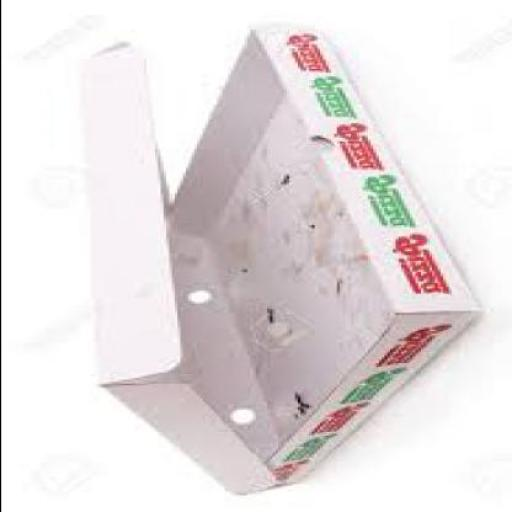cardboard: (78, 24, 478, 494)
